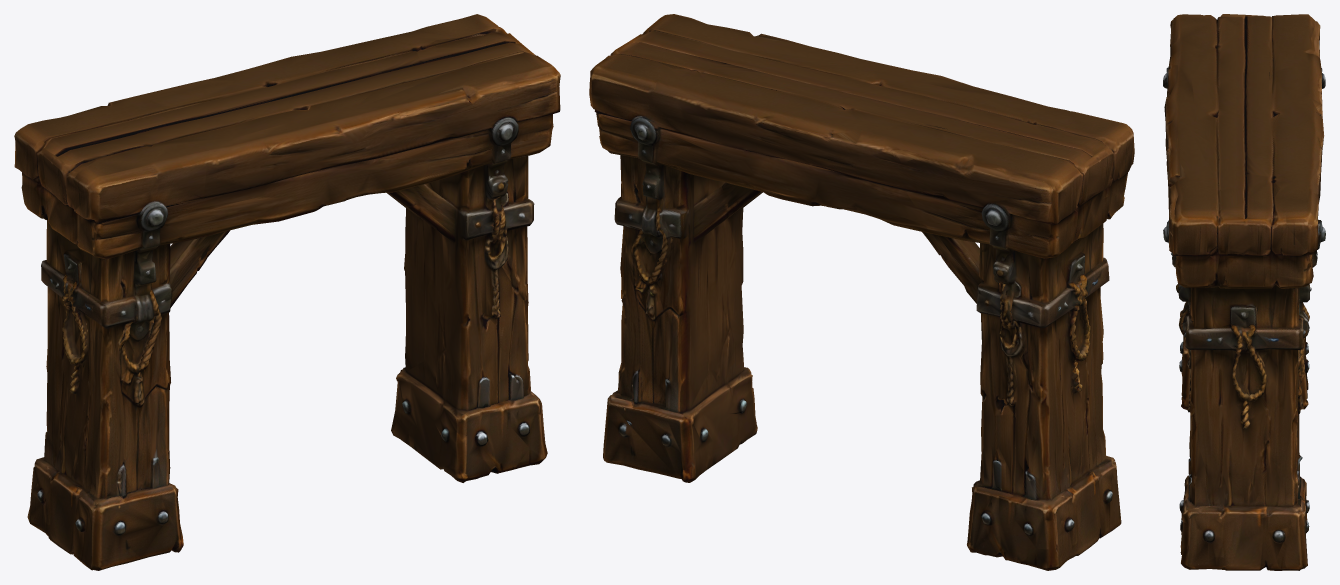
File: arco_de_madera.glb
The picture shows the model from 3 angles, left to right: view 1: azimuth 30°, elevation 25°; view 2: azimuth 150°, elevation 25°; view 3: azimuth 270°, elevation 25°; orthographic projection. The views are drawn at different scales.
Visible parts, largest first — view 1: arco_de_madera; view 2: arco_de_madera; view 3: arco_de_madera.
Boxes of the visible parts, <box> form: arco_de_madera: <box>14,14,560,570</box>; arco_de_madera: <box>589,14,1134,570</box>; arco_de_madera: <box>1163,14,1325,570</box>.
Size of what is drawn, in the model's own units: 3.51 by 2.8 by 1.15.
Materials: 1 (1 with a texture image).
